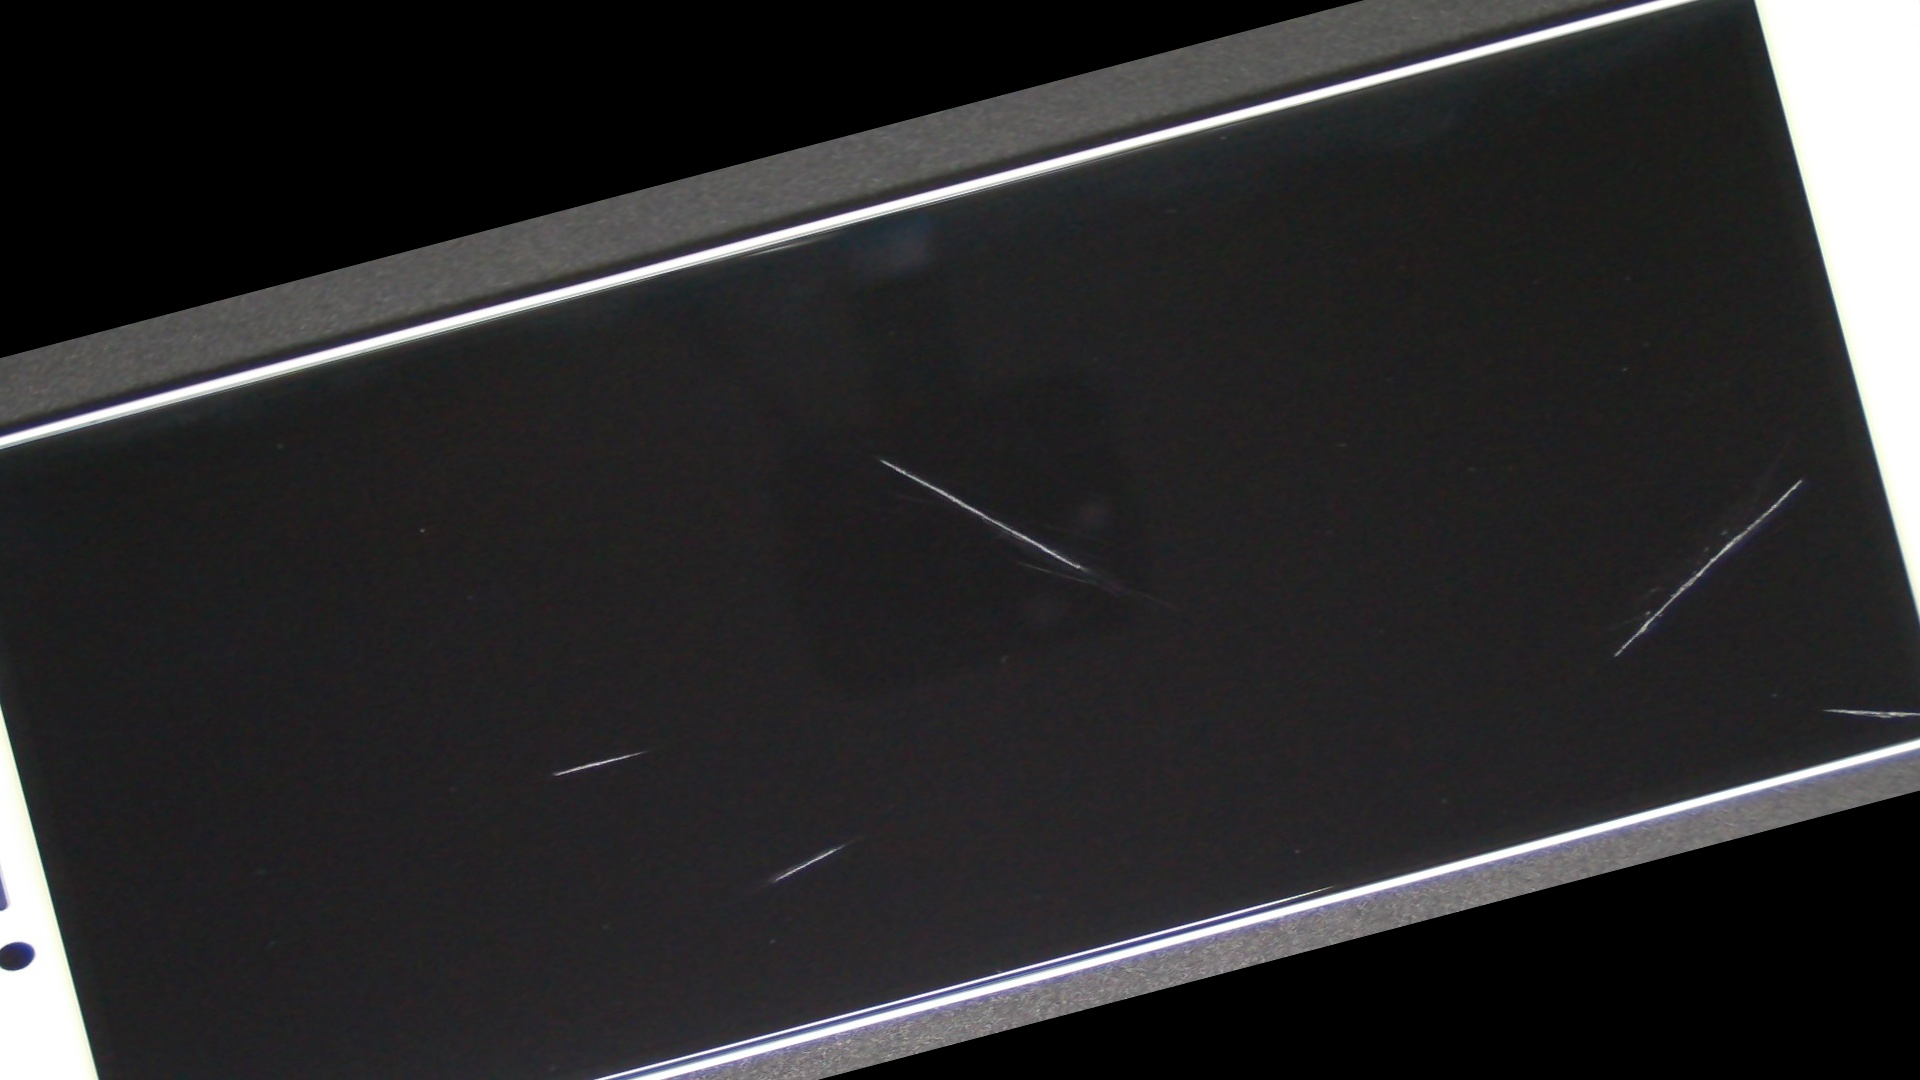oil: (766, 125, 1920, 1009), (778, 236, 1920, 1056), (280, 396, 1348, 1080), (301, 164, 1445, 752), (141, 421, 964, 1080)
